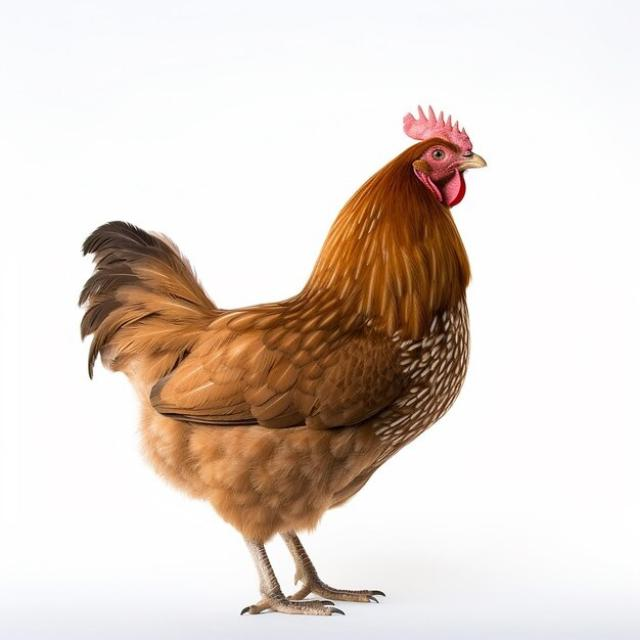Chicken: (79, 102, 490, 617)
